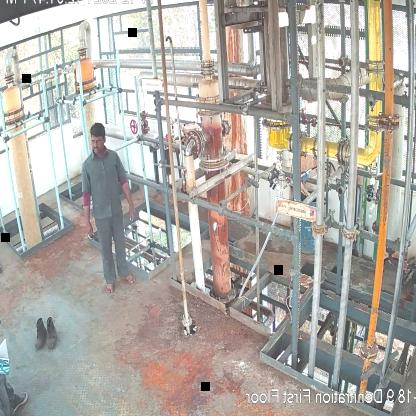no_shoes: (120, 273, 138, 284), (106, 282, 117, 296)
shoes: (42, 316, 58, 350), (33, 318, 46, 349)
